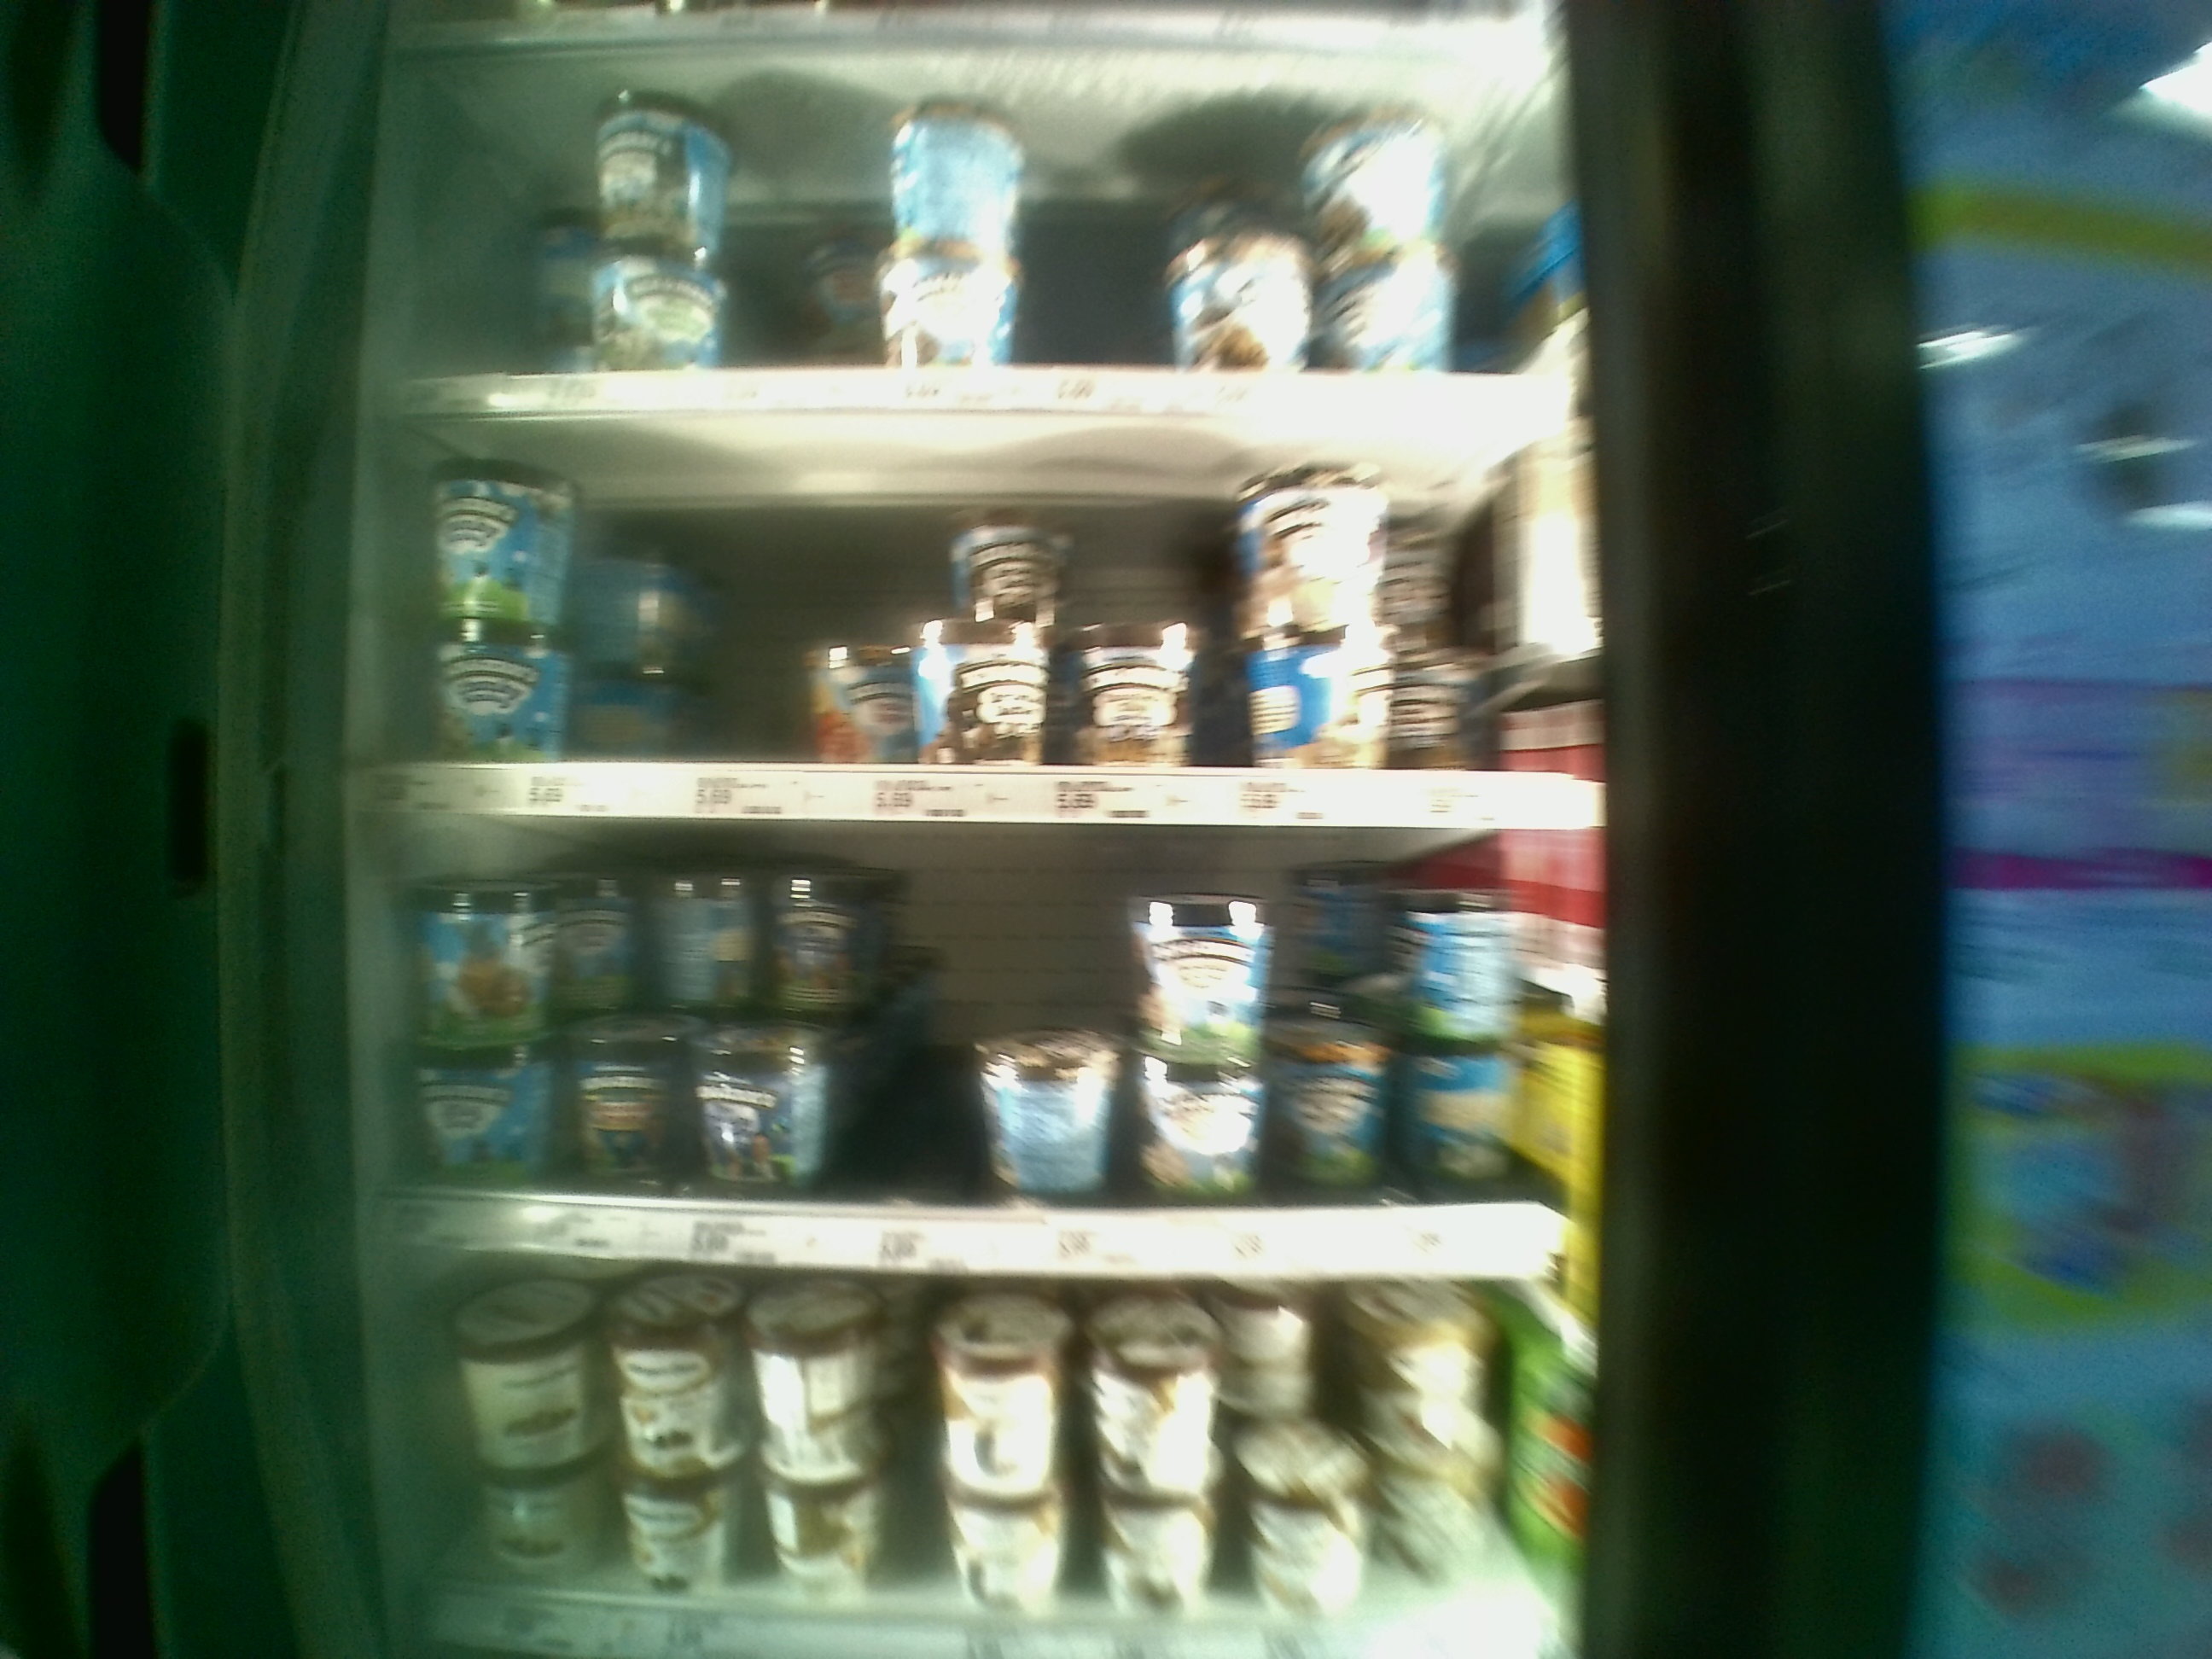shelf: (374, 812, 1604, 1270), (388, 403, 1615, 814), (383, 45, 1587, 403)
